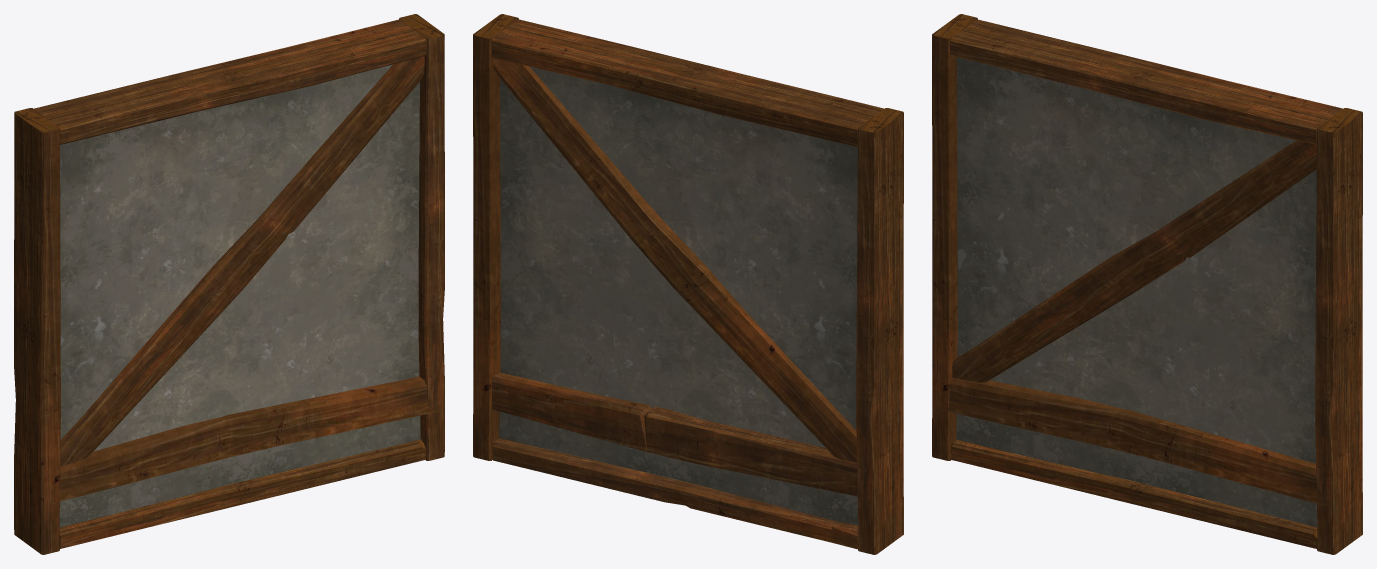
3 renders of one model, left to right at view 1: azimuth 30°, elevation 25°; view 2: azimuth 150°, elevation 25°; view 3: azimuth 330°, elevation 25°, orthographic.
Visible parts, largest first — view 1: SM_BB_T2_Wall_Large_LOD0; view 2: SM_BB_T2_Wall_Large_LOD0; view 3: SM_BB_T2_Wall_Large_LOD0.
Boxes of the visible parts, bbox=[...] form: SM_BB_T2_Wall_Large_LOD0: bbox=[14, 14, 444, 554]; SM_BB_T2_Wall_Large_LOD0: bbox=[473, 14, 903, 554]; SM_BB_T2_Wall_Large_LOD0: bbox=[932, 14, 1362, 554].
Bounding box in the file's own units: 3 × 3 × 0.3829.
2 materials, 2 textured.
